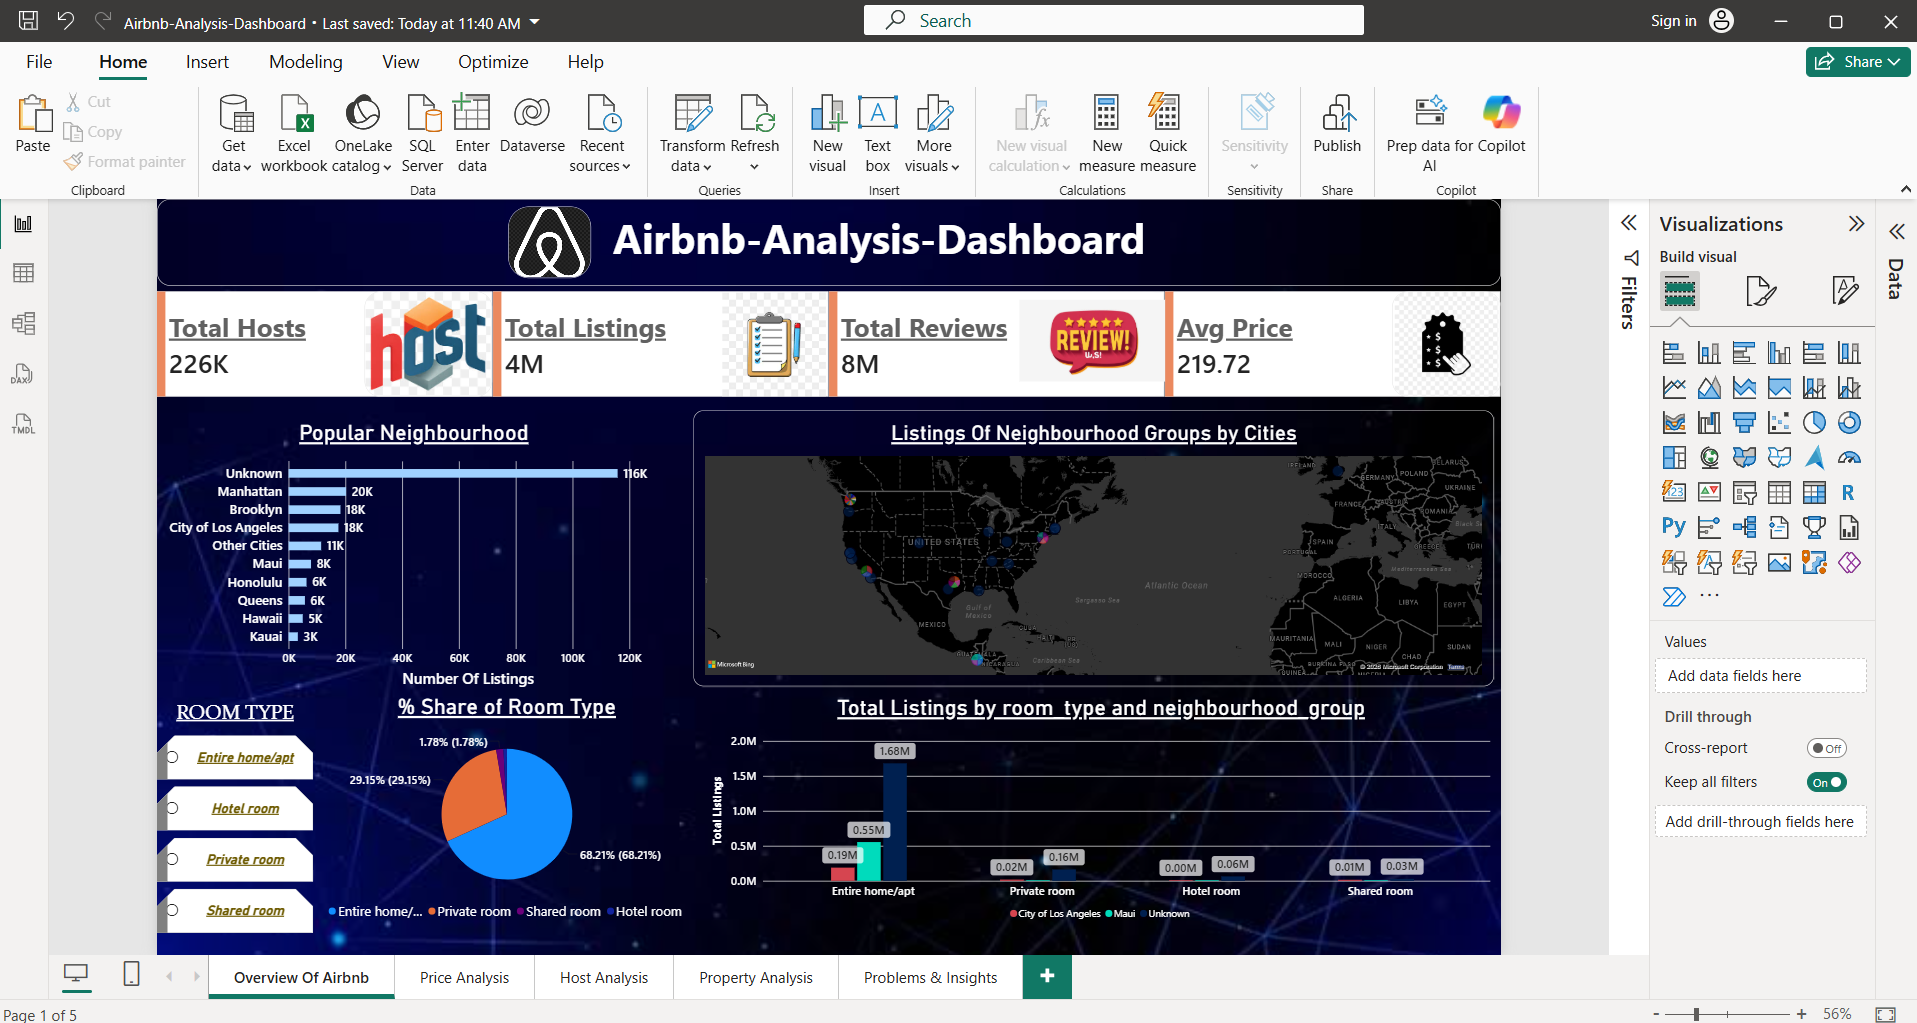

What the dashboard file says about the page in this screenshot:
{"tool":"powerbi","page":{"name":"Overview Of Airbnb","canvas":[1920,1080],"ordinal":0},"visuals":[{"type":"shape","box":[0,0,1920,124],"z":0},{"type":"textbox","box":[160,16,1742,86],"z":1000},{"type":"image","box":[502,10,118,102],"z":2000},{"type":"cardVisual","fields":{"Data":["AB_US_2020.Total Hosts","AB_US_2020.Total Listings","AB_US_2020.Total Reviews","AB_US_2020.Avg Price"]},"box":[0,132,1920,150],"z":3000},{"type":"image","box":[296,132,182,150],"z":4000},{"type":"image","box":[1764,132,156,150],"z":5000},{"type":"image","box":[804,134,156,148],"z":6000},{"type":"image","box":[1232,124,208,158],"z":7000},{"type":"clusteredBarChart","title":"Popular Neighbourhood","fields":{"Category":["AB_US_2020.neighbourhood_group"],"Y":["CountNonNull(AB_US_2020.calculated_host_listings_count)"]},"box":[0,302,734,412],"z":8000},{"type":"map","title":"Listings Of Neighbourhood Groups by Cities","fields":{"Category":["AB_US_2020.city"],"Series":["AB_US_2020.neighbourhood_group"]},"box":[765.5,301.8,1143.6,394.5],"z":9000},{"type":"pieChart","title":"% Share of Room Type","fields":{"Category":["AB_US_2020.room_type"],"Y":["CountNonNull(AB_US_2020.room_type)"]},"box":[223.3,693.3,553.3,356.7],"z":10000},{"type":"lineClusteredColumnComboChart","fields":{"Category":["AB_US_2020.room_type"],"Series":["AB_US_2020.neighbourhood_group"],"Y":["AB_US_2020.Total Listings"]},"box":[776,694,1144,356],"z":11000},{"type":"advancedSlicerVisual","title":"ROOM TYPE","fields":{"Values":["AB_US_2020.room_type"]},"box":[0,714,223,336],"z":12000}]}

Visuals, with their boxes on the page's 1920x1080 design canvas (x1, y1, x2, y2). These are canvas units, not pixel positions in the 1917x1023 screenshot, which may show the page scaled, cropped or inside an application window:
shape: x1=0, y1=0, x2=1920, y2=124
textbox: x1=160, y1=16, x2=1902, y2=102
image: x1=502, y1=10, x2=620, y2=112
cardVisual - AB_US_2020.Total Hosts x AB_US_2020.Total Listings: x1=0, y1=132, x2=1920, y2=282
image: x1=296, y1=132, x2=478, y2=282
image: x1=1764, y1=132, x2=1920, y2=282
image: x1=804, y1=134, x2=960, y2=282
image: x1=1232, y1=124, x2=1440, y2=282
"Popular Neighbourhood" clusteredBarChart: x1=0, y1=302, x2=734, y2=714
"Listings Of Neighbourhood Groups by Cities" map: x1=766, y1=302, x2=1909, y2=696
"% Share of Room Type" pieChart: x1=223, y1=693, x2=777, y2=1050
lineClusteredColumnComboChart - AB_US_2020.room_type x AB_US_2020.neighbourhood_group: x1=776, y1=694, x2=1920, y2=1050
"ROOM TYPE" advancedSlicerVisual: x1=0, y1=714, x2=223, y2=1050
